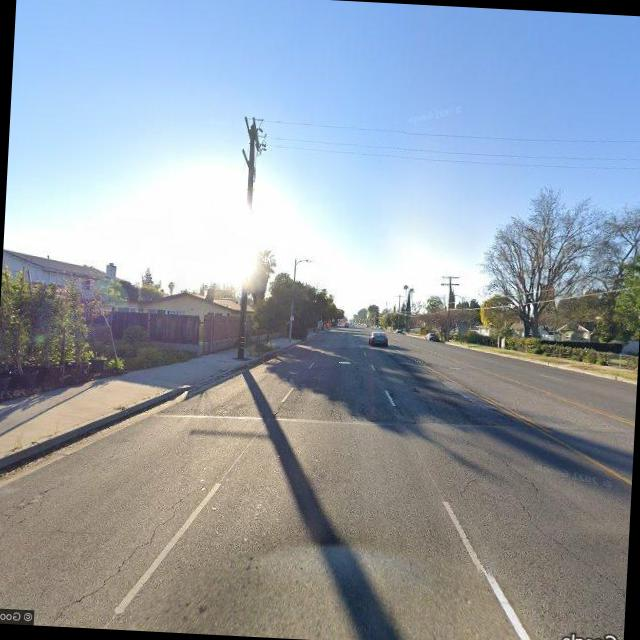crack: (0, 473, 64, 534)
pothole: (46, 483, 199, 632), (506, 494, 631, 614), (444, 423, 552, 494)
